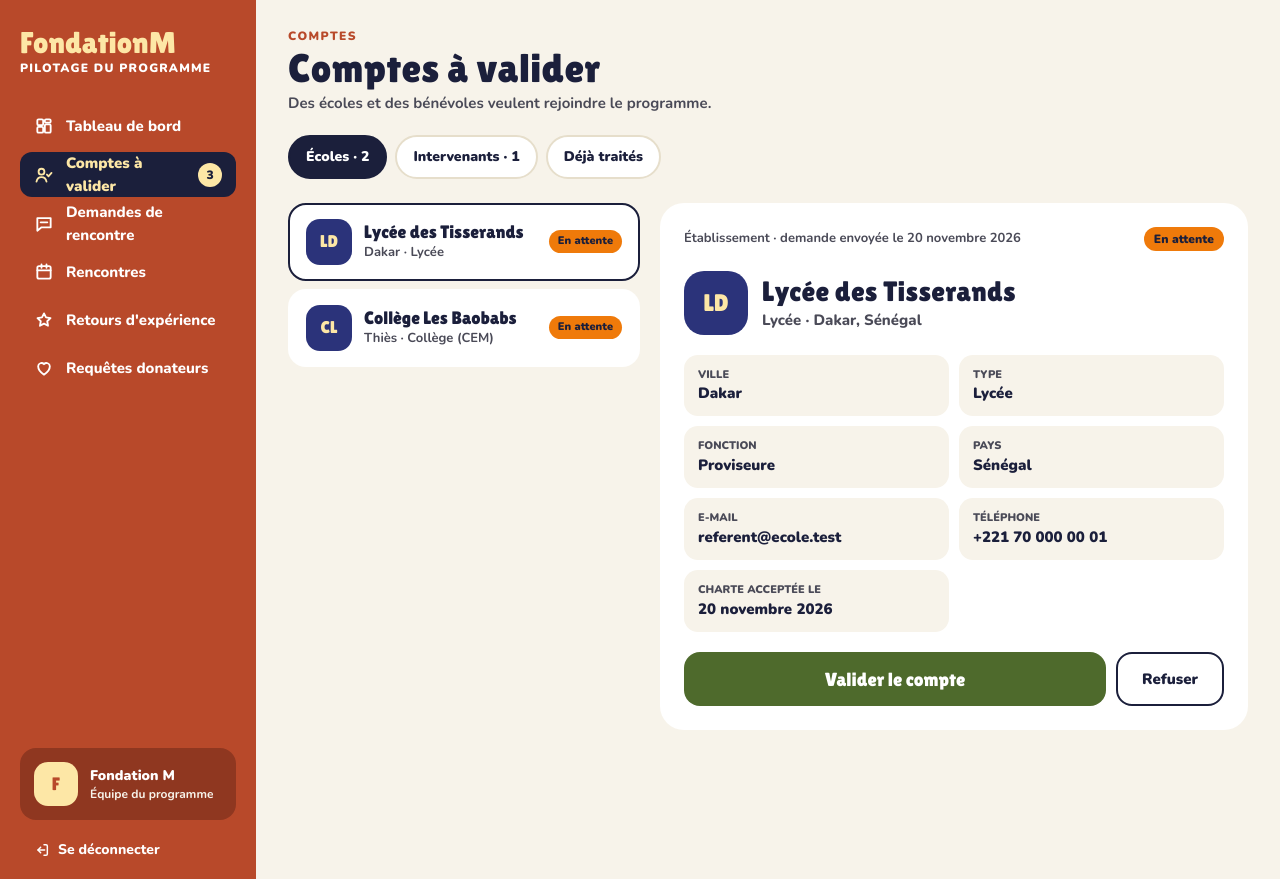
Scenario: Comptes à valider — listes et détail › liste les écoles en attente puis les intervenants
Expected: the button "LD Lycée des Tisserands Dakar · Lycée En attente" is shown, [288, 202, 640, 280]
Click the tab "Intervenants · 1" at (467, 156), box [395, 134, 538, 178]
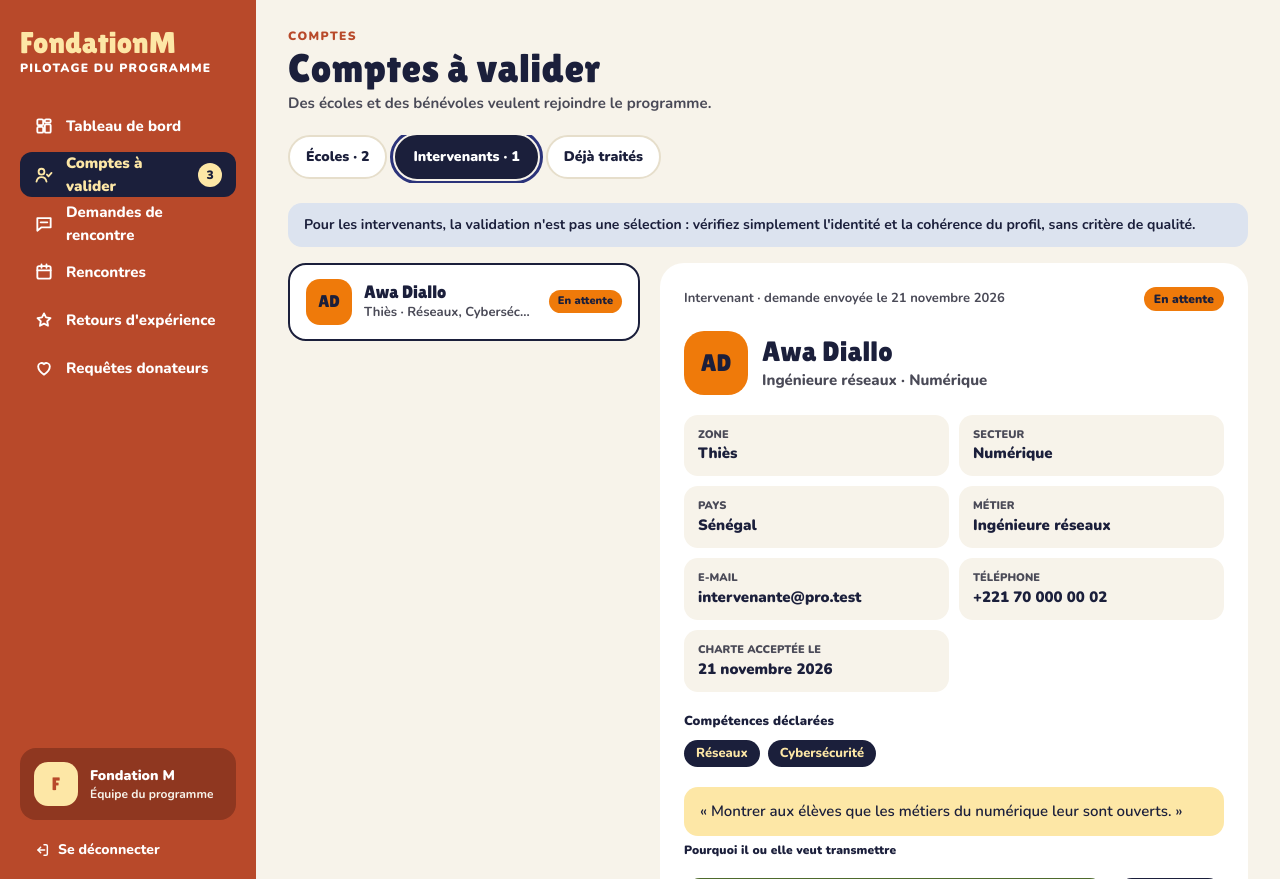
Expected: the button "AD Awa Diallo Thiès · Réseaux, Cybersécurité En attente" is shown, [288, 262, 640, 340]
Expected: the text "la validation n'est pas une sélection" is shown, [304, 214, 1196, 234]
